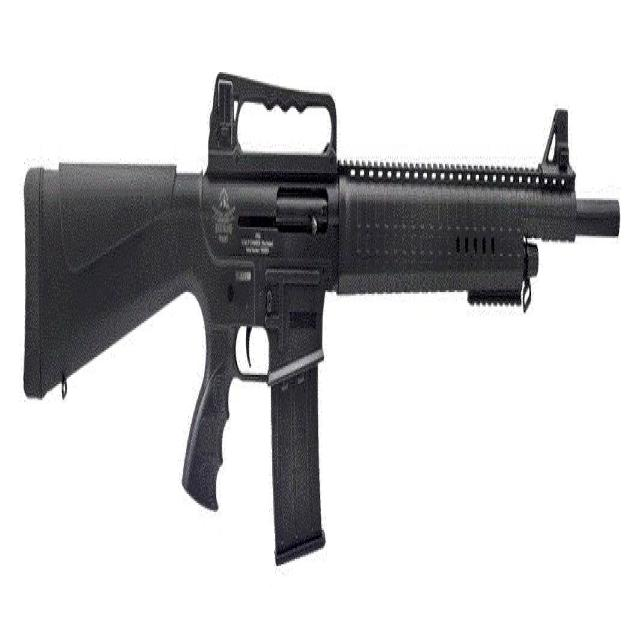Rifle: (22, 72, 621, 566)
